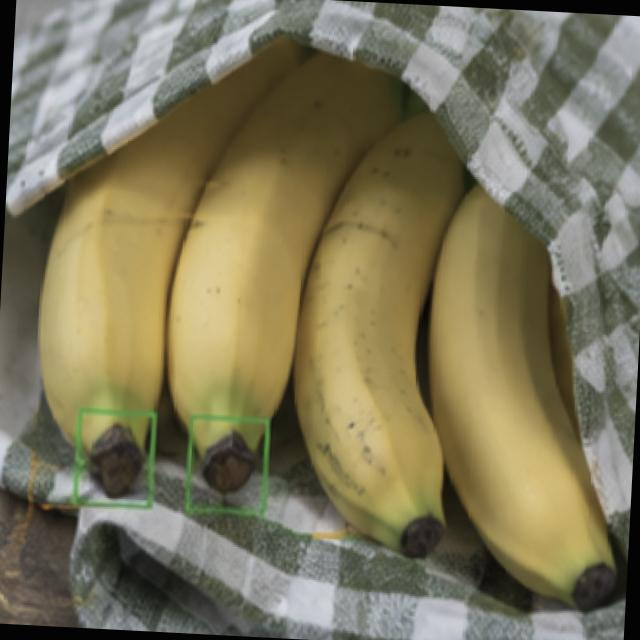Fruit-Stem-Detection: (42, 405, 276, 529)
